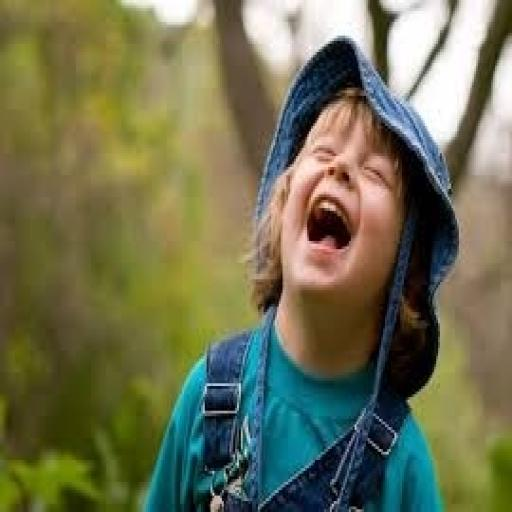laughing: (131, 30, 470, 509)
